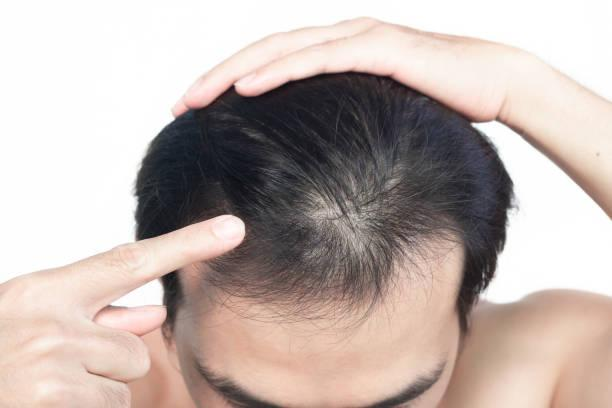low hair density: (303, 178, 398, 258)
